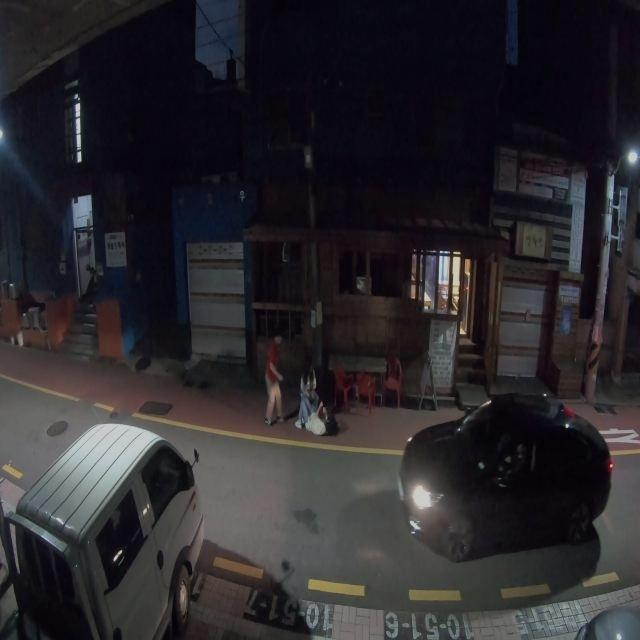fight: (293, 350, 336, 435)
non-fight: (260, 328, 286, 429)
